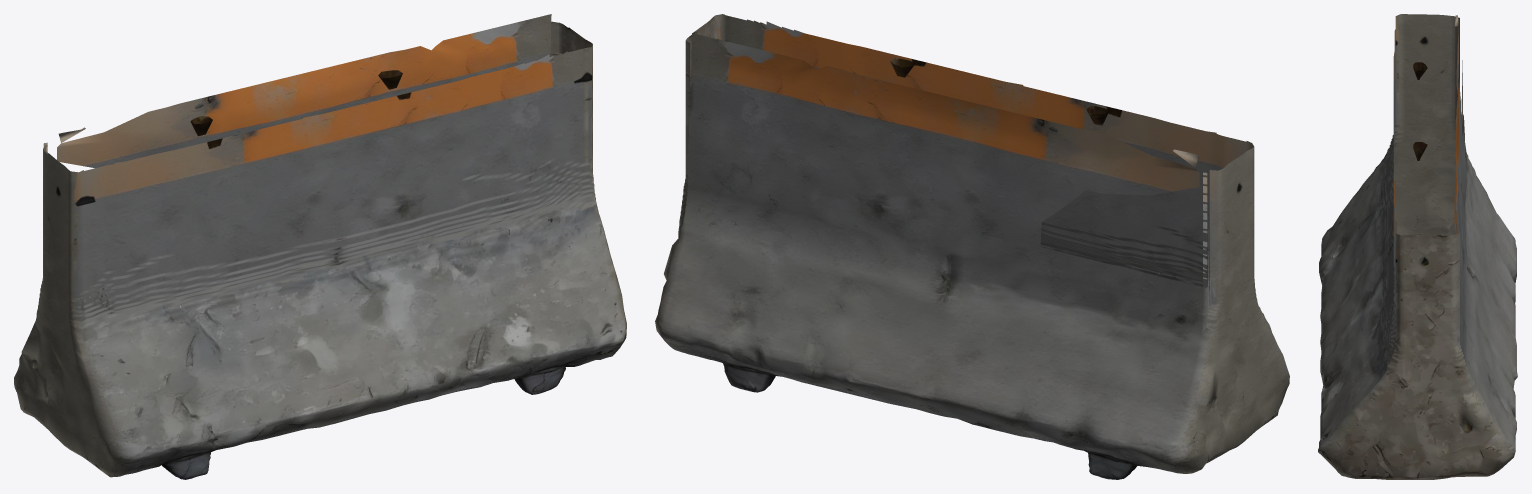
The model's file is barrier_concrete.glb.
3 views of the same model, side by side, from view 1: azimuth 30°, elevation 25°; view 2: azimuth 150°, elevation 25°; view 3: azimuth 270°, elevation 25° (orthographic). The views are drawn at different scales.
Parts seen in each view (by area): view 1: tripo_node_861f3e97-8852-4d09-a6f1-5a4ce27d8f27; view 2: tripo_node_861f3e97-8852-4d09-a6f1-5a4ce27d8f27; view 3: tripo_node_861f3e97-8852-4d09-a6f1-5a4ce27d8f27.
Part boxes in pixels (x1,y1,x2,y2): tripo_node_861f3e97-8852-4d09-a6f1-5a4ce27d8f27: [14, 14, 626, 479]; tripo_node_861f3e97-8852-4d09-a6f1-5a4ce27d8f27: [655, 14, 1289, 479]; tripo_node_861f3e97-8852-4d09-a6f1-5a4ce27d8f27: [1318, 14, 1517, 479].
Bounding box in the file's own units: 0.9961 × 0.5558 × 0.3777.
1 material, 1 textured.
